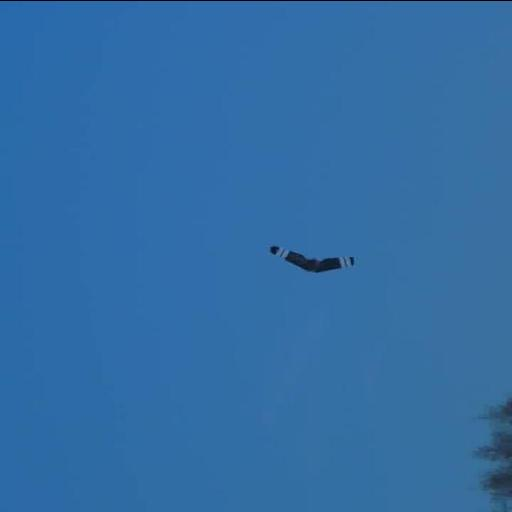uav: (264, 241, 366, 279)
